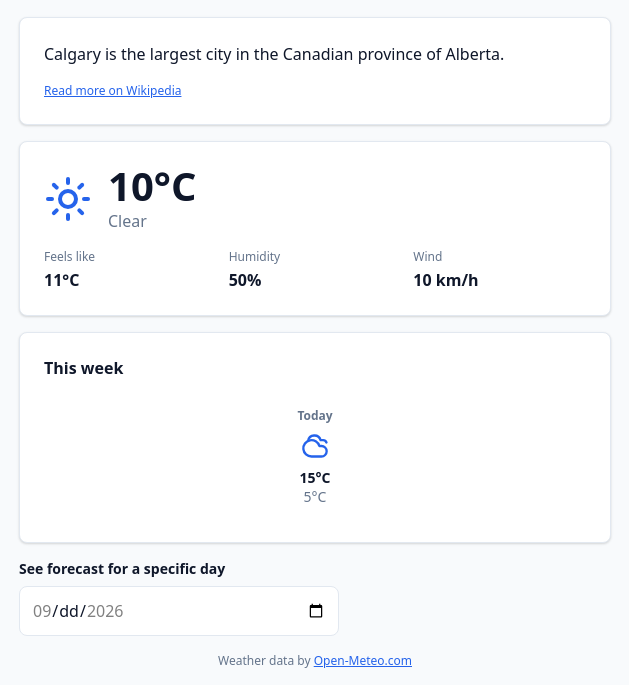
TravelPlannerPage › lets the user pick a forecast date and shows the selected-day card, with no extra request
This screenshot has width=629, height=685.
(page scrolled)
Type "2026-09-29" into the date field labelled "See forecast for a specific day" at (179, 611), box [19,586,339,636]
(page scrolled)
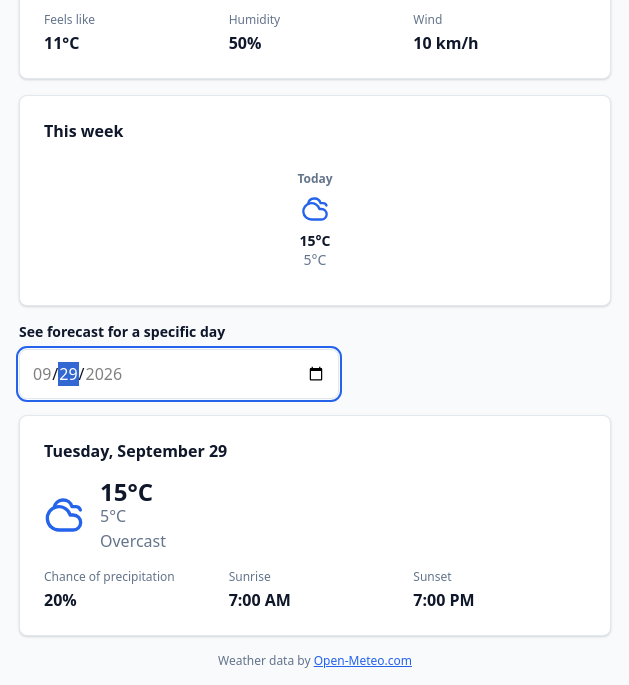
Result: the text "15°C" below "Tuesday, September 29" is shown at [100,475,153,508]
